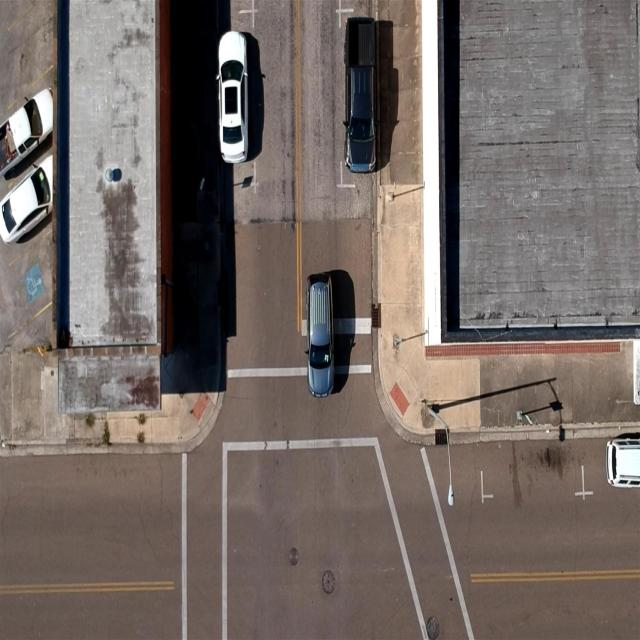Car: (342, 12, 382, 178), (214, 24, 258, 168), (305, 267, 338, 400)
